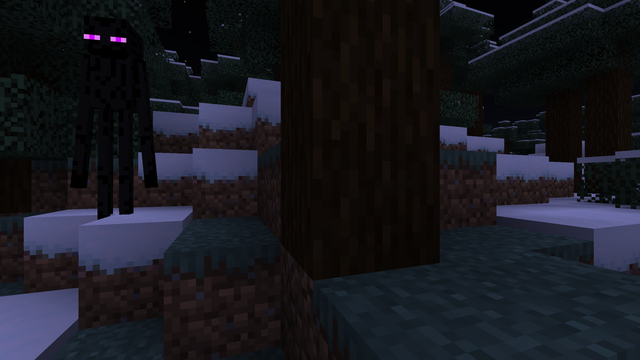endermens: (78, 4, 145, 227)
